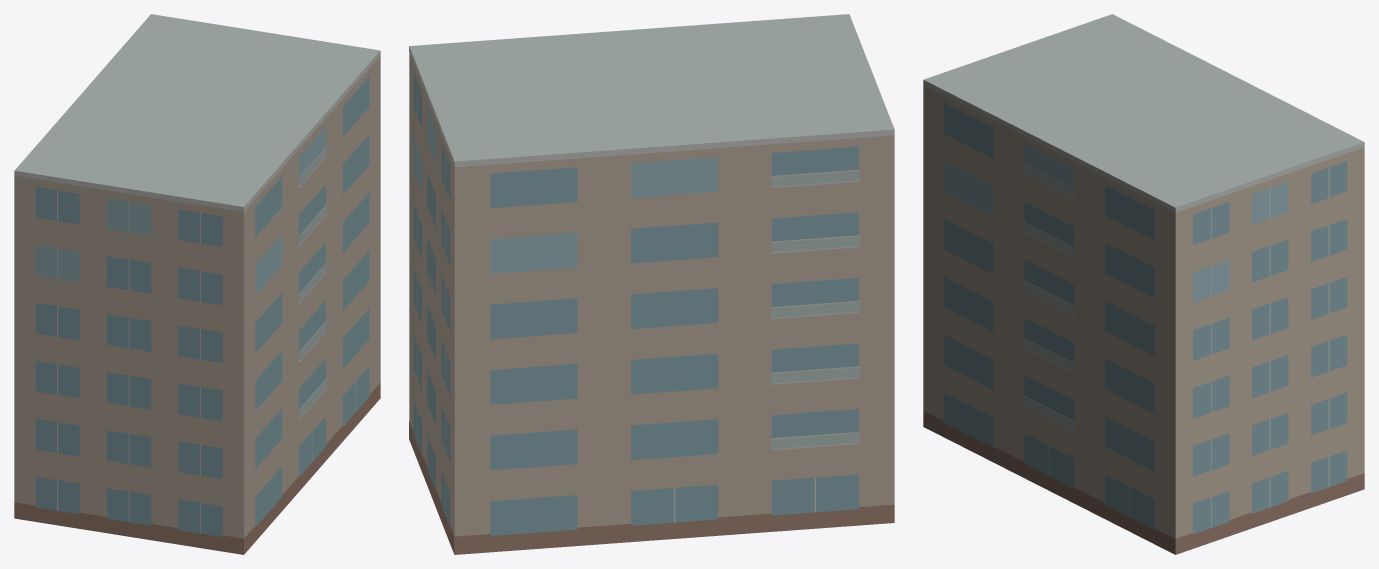
File: survey-upis-32850500.glb
3 renders of one model, left to right at view 1: azimuth 30°, elevation 25°; view 2: azimuth 150°, elevation 25°; view 3: azimuth 270°, elevation 25°, orthographic. The views are drawn at different scales.
Parts seen in each view (by area): view 1: survey-upis-32850500.tmp; view 2: survey-upis-32850500.tmp; view 3: survey-upis-32850500.tmp.
Boxes of the visible parts, x1=… form: survey-upis-32850500.tmp: x1=14, y1=14, x2=380, y2=554; survey-upis-32850500.tmp: x1=409, y1=14, x2=894, y2=554; survey-upis-32850500.tmp: x1=923, y1=14, x2=1364, y2=554.
Bounding box in the file's own units: 19.99 × 16.7 × 19.24.
